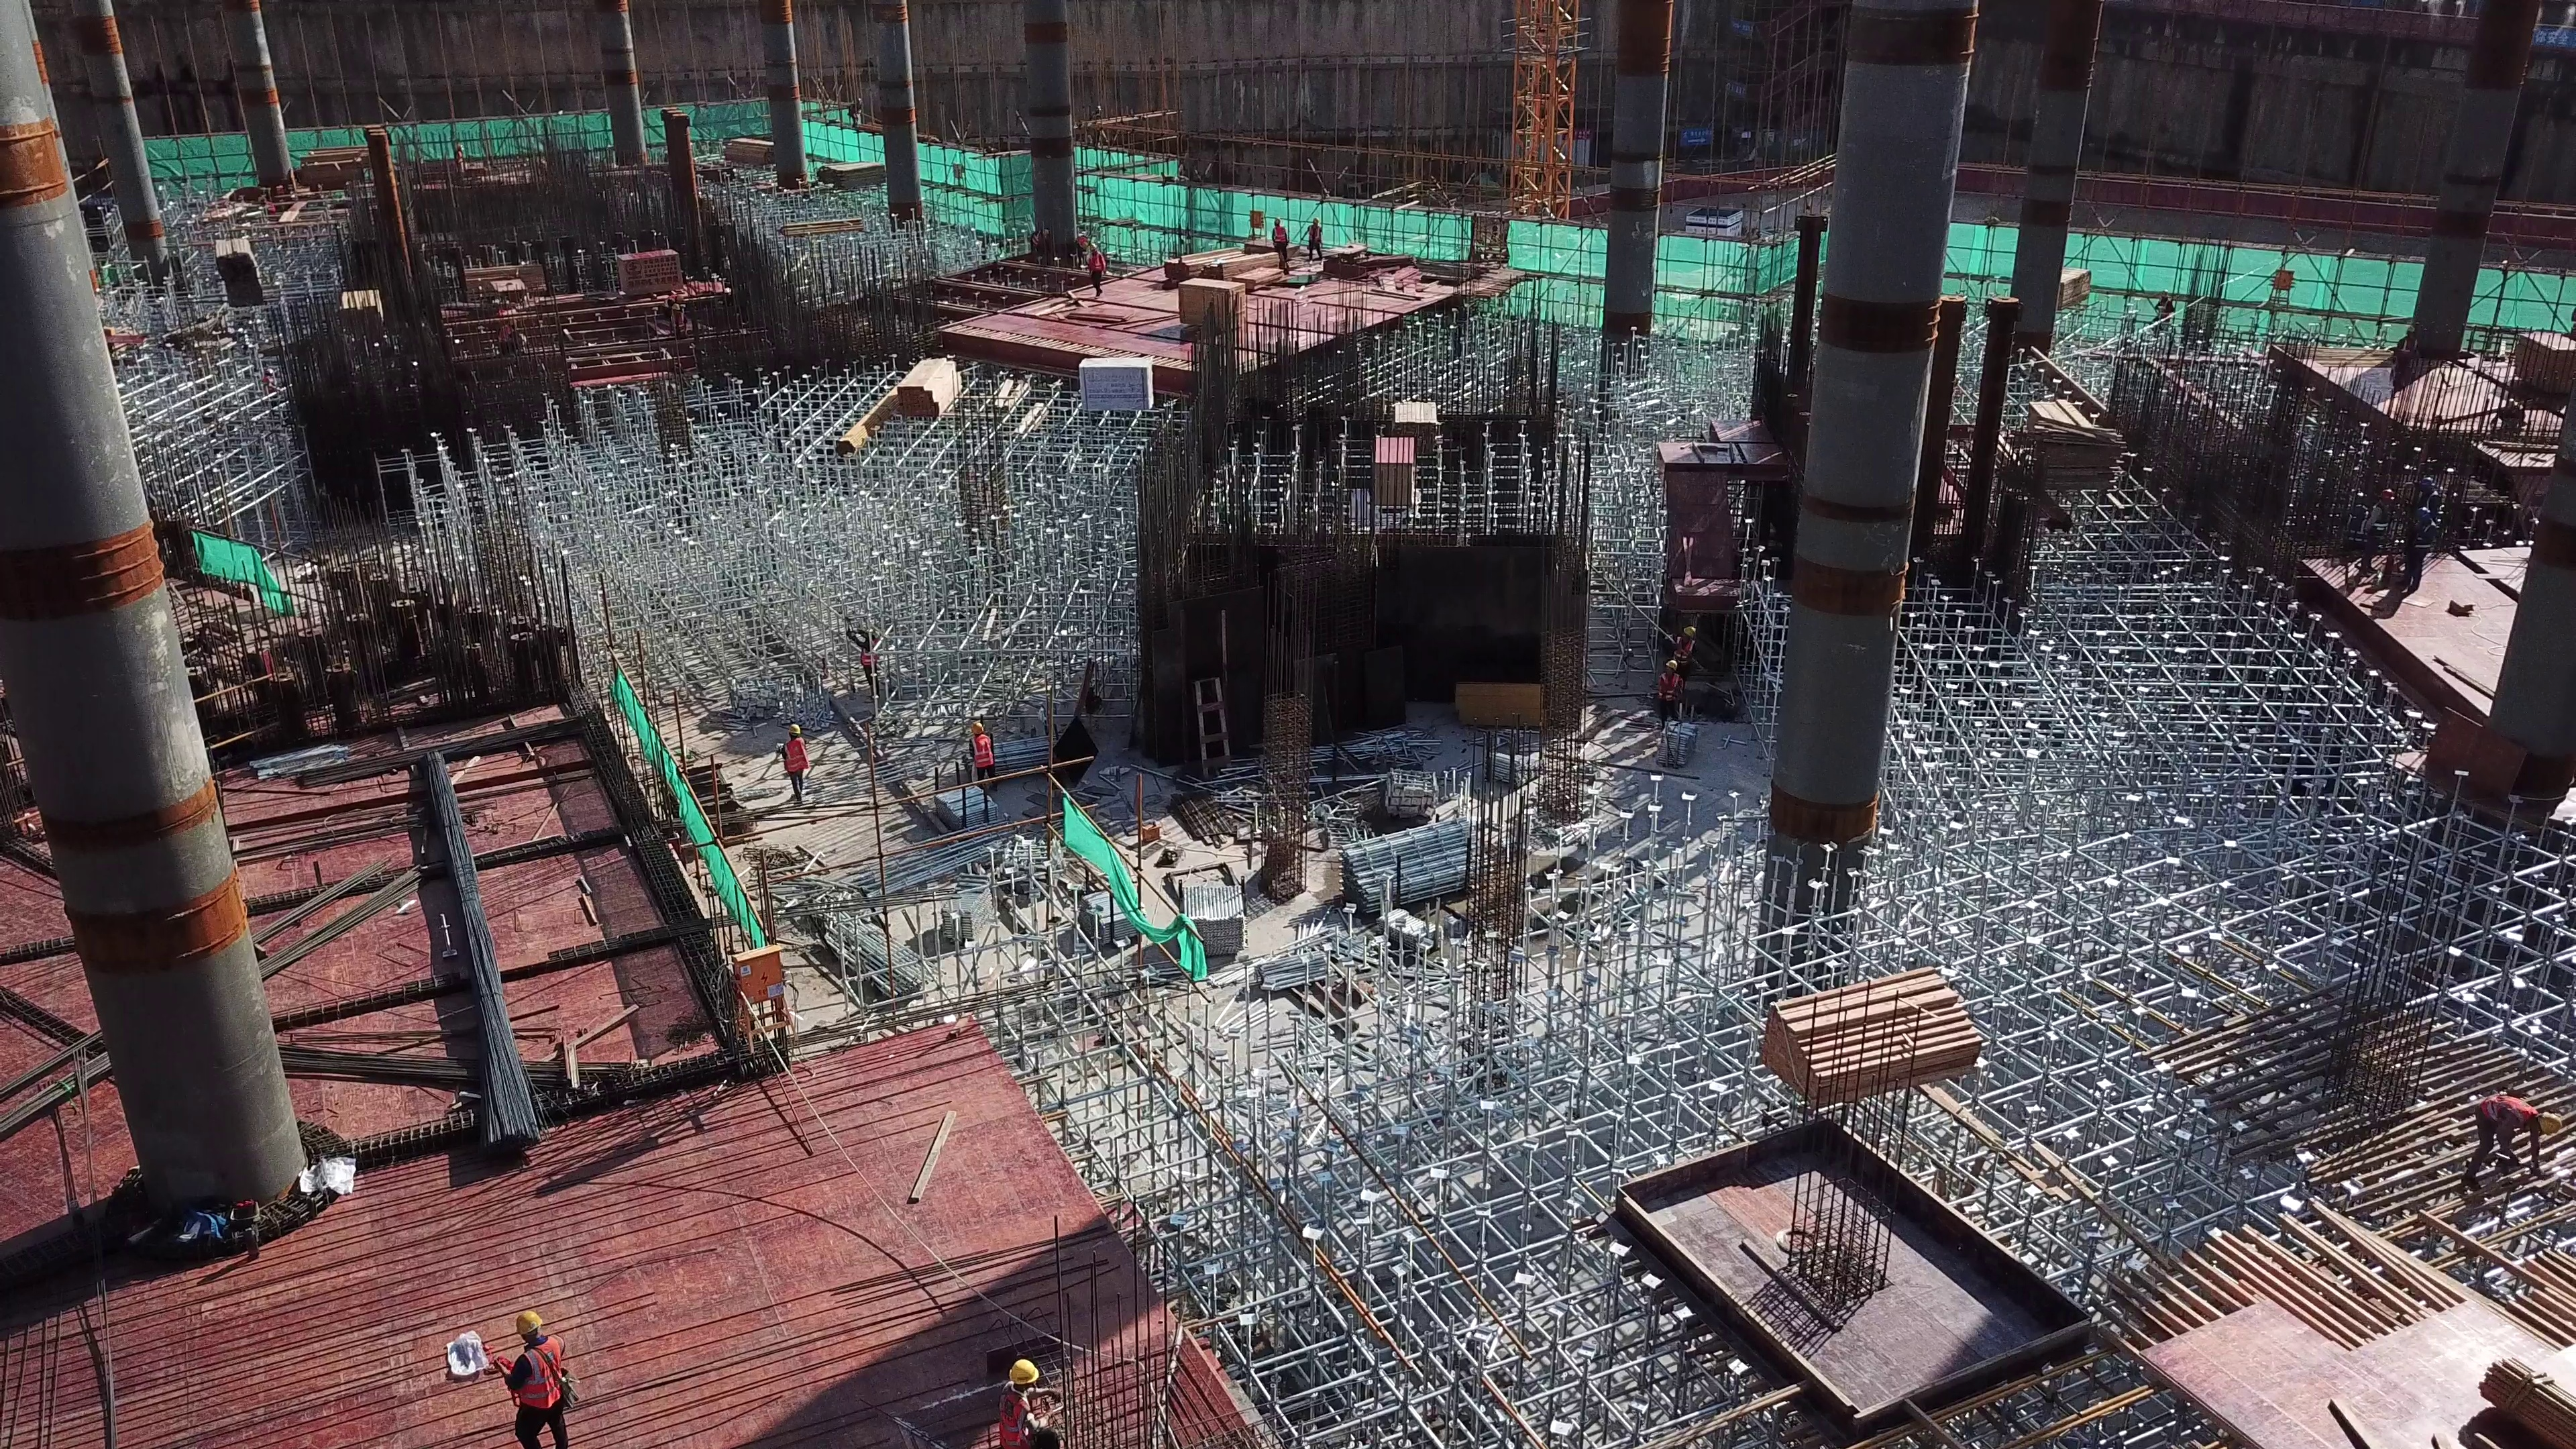helmet: (1002, 1360, 1043, 1382), (511, 1309, 549, 1333), (2539, 1108, 2560, 1132), (2379, 488, 2397, 501), (2414, 508, 2430, 521), (2420, 478, 2437, 488), (1666, 659, 1679, 672), (969, 724, 983, 738), (787, 724, 801, 735), (1683, 627, 1695, 637)
person: (2463, 1095, 2576, 1195), (500, 1315, 576, 1447), (985, 1359, 1067, 1449), (775, 724, 813, 808), (962, 723, 997, 796), (1667, 627, 1690, 691), (1658, 659, 1679, 722), (1270, 219, 1291, 272), (1305, 218, 1324, 265), (1087, 246, 1106, 297)
vest: (511, 1340, 566, 1412), (2477, 1091, 2536, 1132), (997, 1387, 1036, 1445), (965, 736, 994, 772), (782, 737, 810, 773), (2369, 505, 2392, 541), (1658, 674, 1681, 707), (2410, 524, 2432, 555), (1672, 636, 1692, 661), (2349, 518, 2367, 542), (1086, 252, 1102, 274), (1271, 227, 1287, 244)
